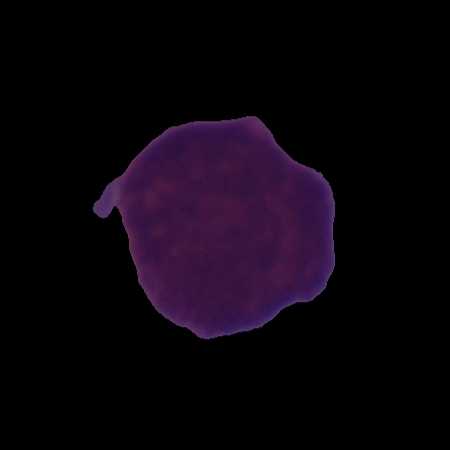ALL: (90, 112, 339, 342)
